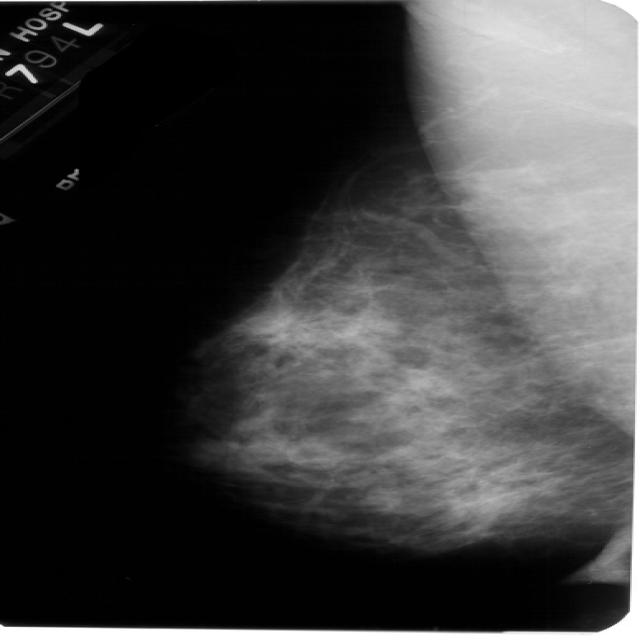tumour: (234, 312, 322, 342)
